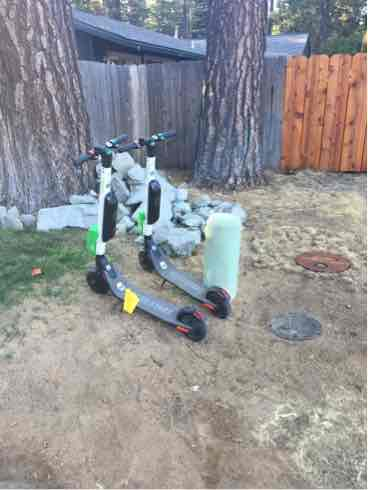scooter: (74, 122, 205, 346)
